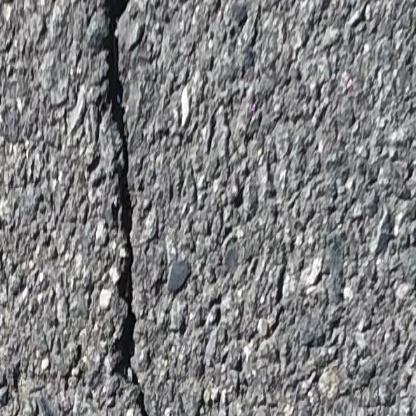Cracks: (99, 0, 160, 416)
